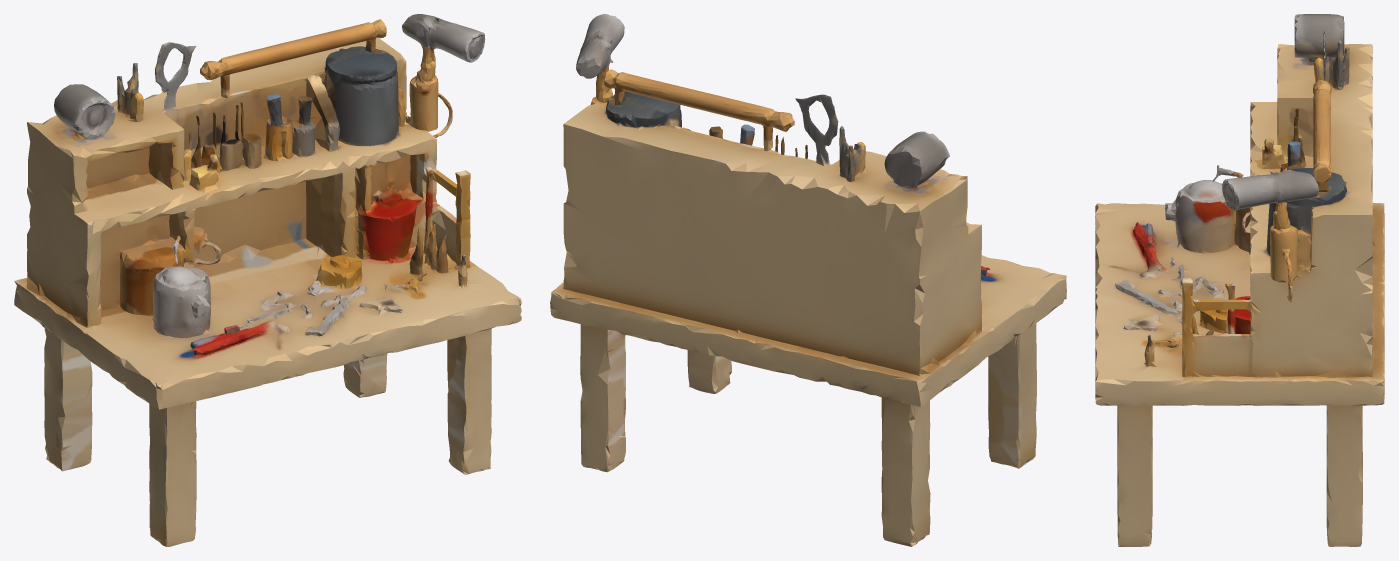
The picture shows the model from 3 angles, left to right: view 1: azimuth 30°, elevation 25°; view 2: azimuth 150°, elevation 25°; view 3: azimuth 270°, elevation 25°; orthographic projection. The views are drawn at different scales.
Visible parts, largest first — view 1: 032; view 2: 032; view 3: 032.
Part boxes in pixels (x1=…): 032: x1=14, y1=14, x2=521, y2=546; 032: x1=550, y1=14, x2=1066, y2=546; 032: x1=1095, y1=14, x2=1384, y2=546.
Size of the model in its own units: 1.9 by 1.84 by 1.19.
1 material, 1 textured.
